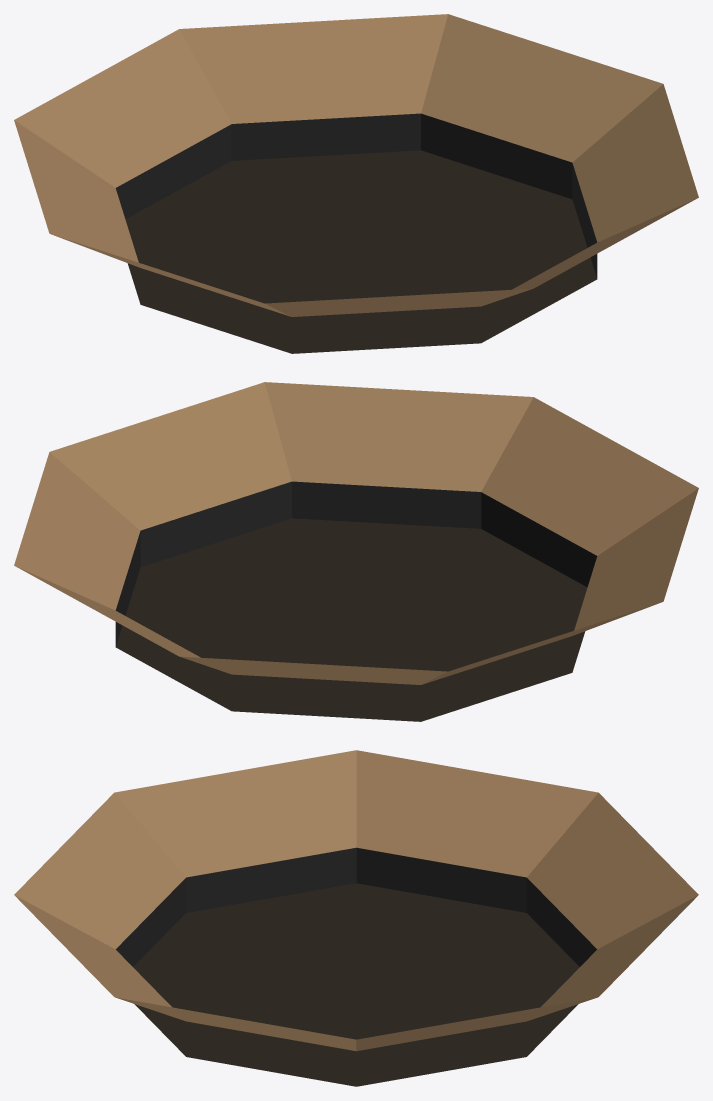
The model's file is arena.dae.
3 renders of one model, top to bottom at view 1: azimuth 30°, elevation 25°; view 2: azimuth 150°, elevation 25°; view 3: azimuth 270°, elevation 25°, orthographic. The views are drawn at different scales.
Visible parts, largest first — view 1: stage-col; view 2: stage-col; view 3: stage-col.
Part boxes in pixels (x1,y1,x2,y2): stage-col: (14, 14, 698, 353); stage-col: (14, 382, 698, 721); stage-col: (14, 750, 698, 1086).
Bounding box in the file's own units: 28.44 × 28.44 × 4.13.
